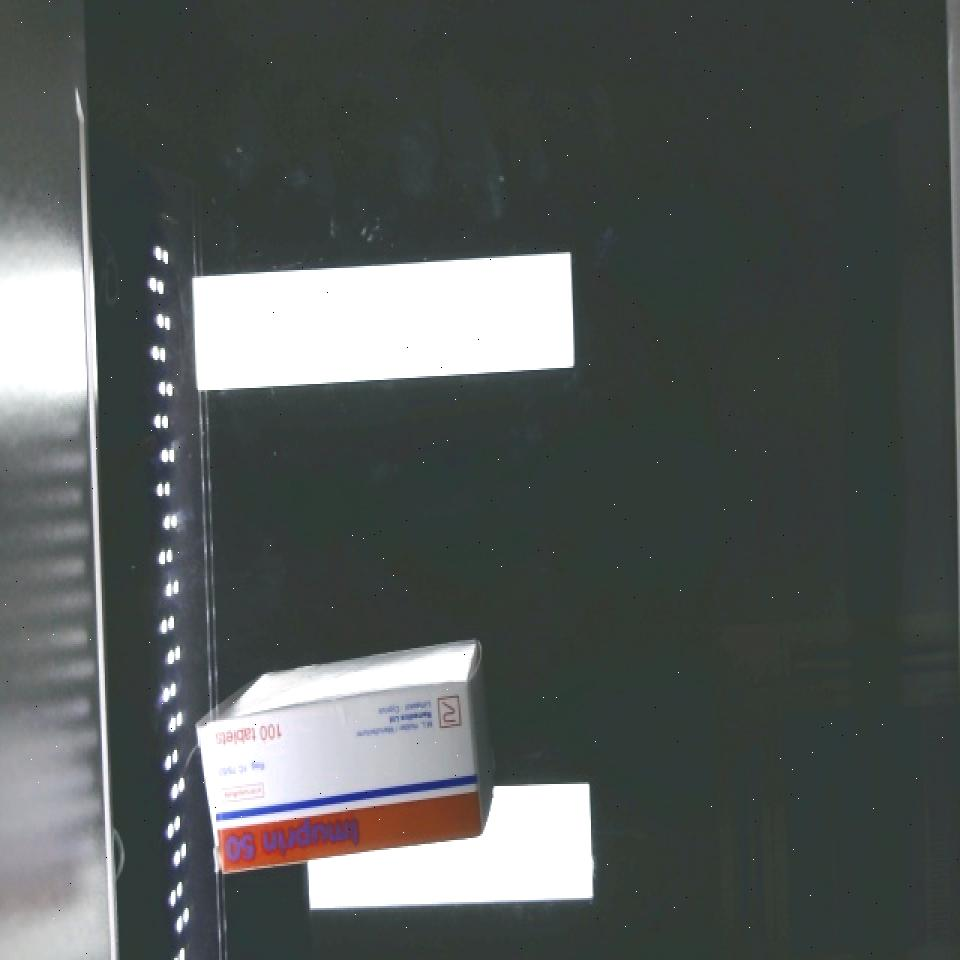medicine_box: (193, 678, 490, 871)
medicine_label_obb: (212, 796, 379, 871)
